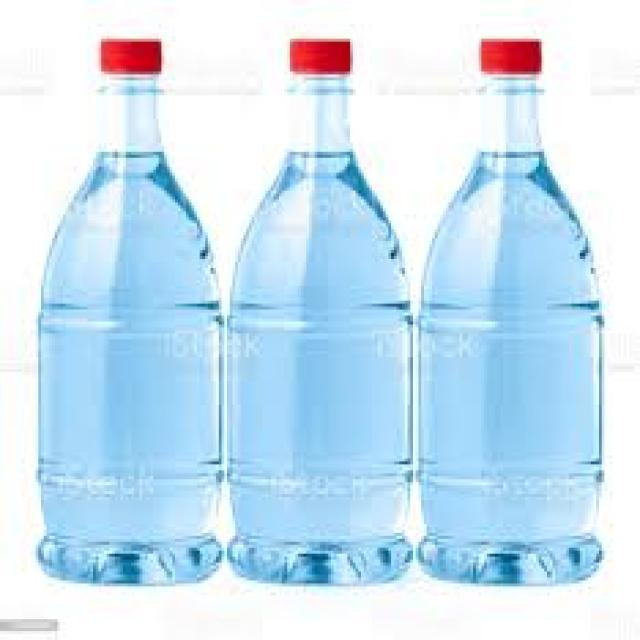Plastic: (416, 25, 608, 587), (216, 35, 412, 582), (34, 39, 222, 580)
